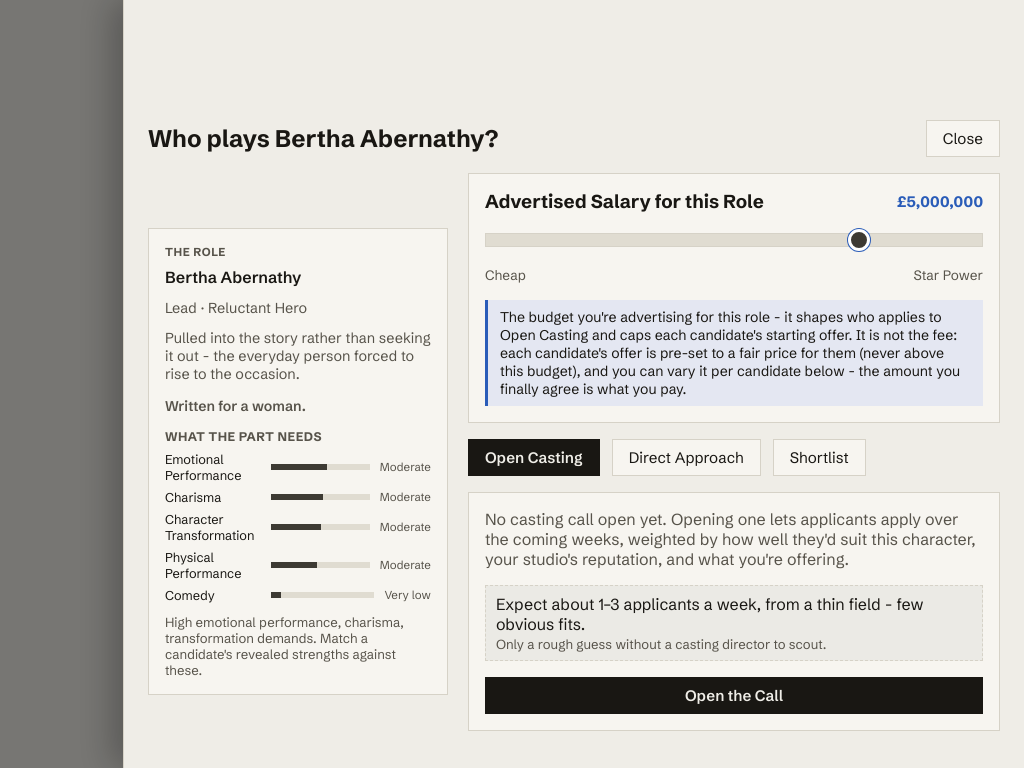
CastingDrawer - "Available now only" filter › disables the offer for a booked actor (the schedule gate would hard-reject it), while a free actor stays actionable
What coordinates should you click on to do the following:
click the button "Direct Approach"
I would click on:
 (686, 458)
Its box is [612,439,761,476].
(page scrolled)
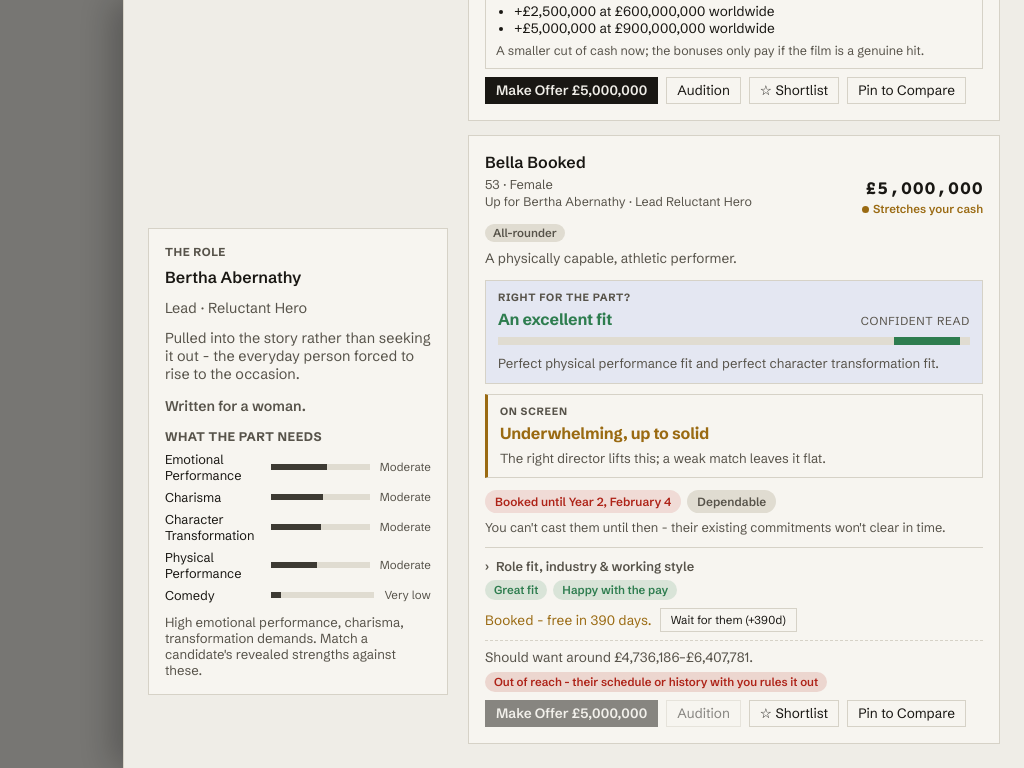
expect the button "Make Offer £5,000,000" below "£900,000,000" is enabled: met, box [485,77,658,104]
expect the button "Make Offer £5,000,000" below "Booked - free in" is disabled: met, box [485,700,658,727]
expect the text "You can't cast them until then" is shown: met, box [485,519,946,535]
